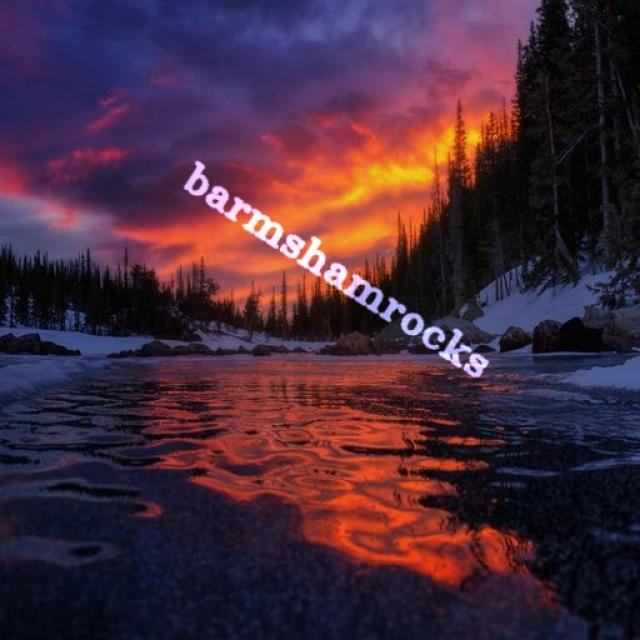watermark: (171, 155, 508, 387)
